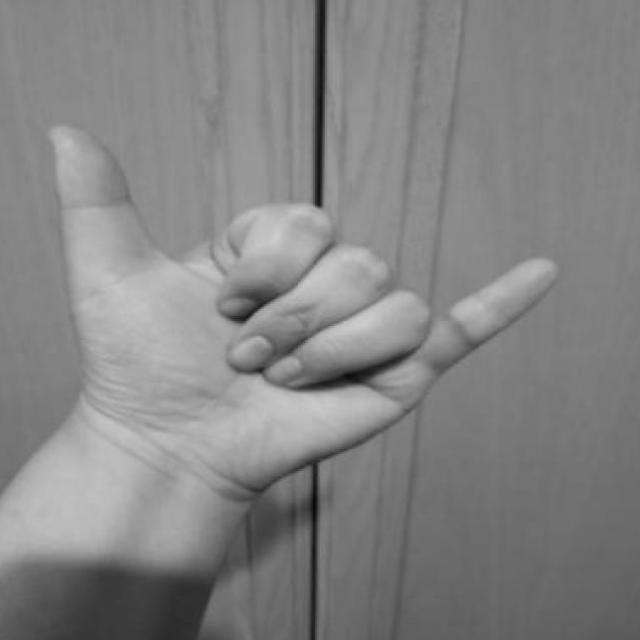Y: (39, 113, 573, 521)
